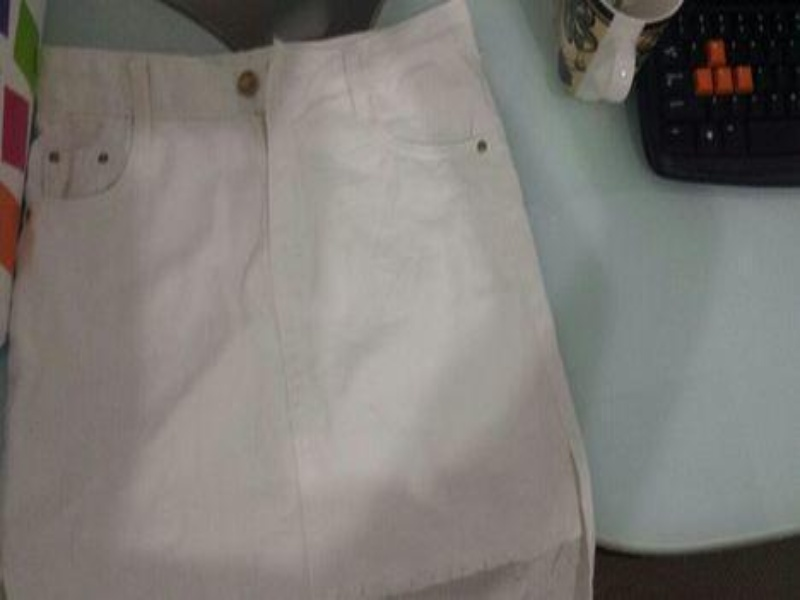skirt: (0, 0, 597, 598)
